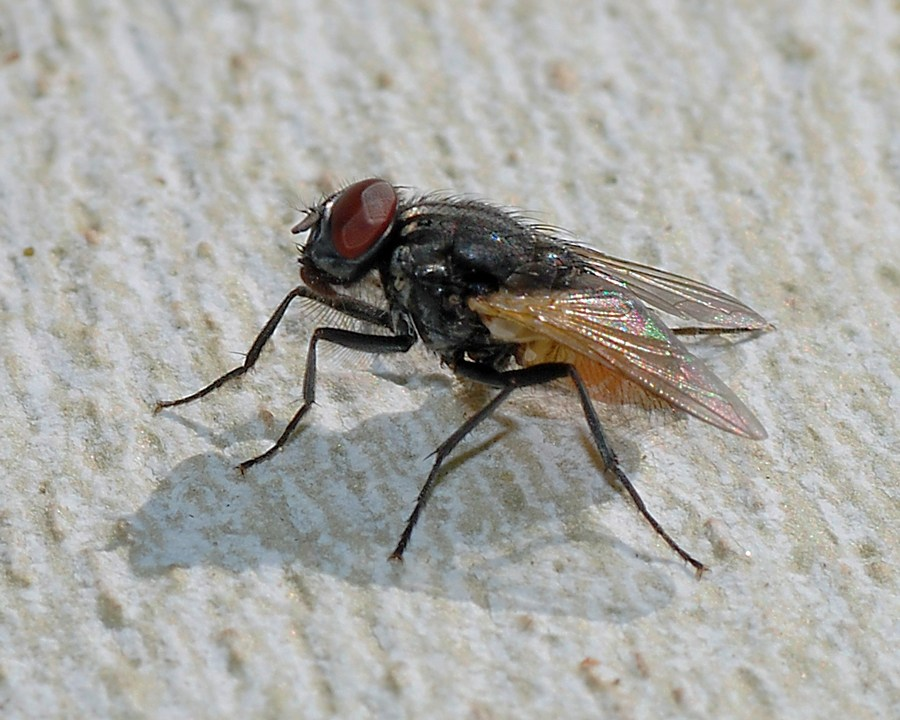fly: (142, 178, 775, 595)
